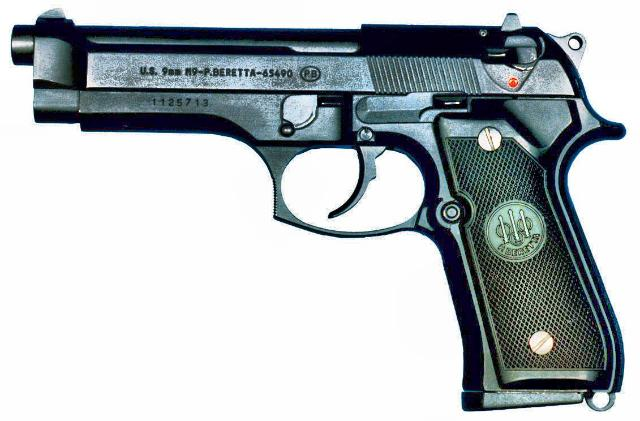pistol: (10, 7, 624, 411)
